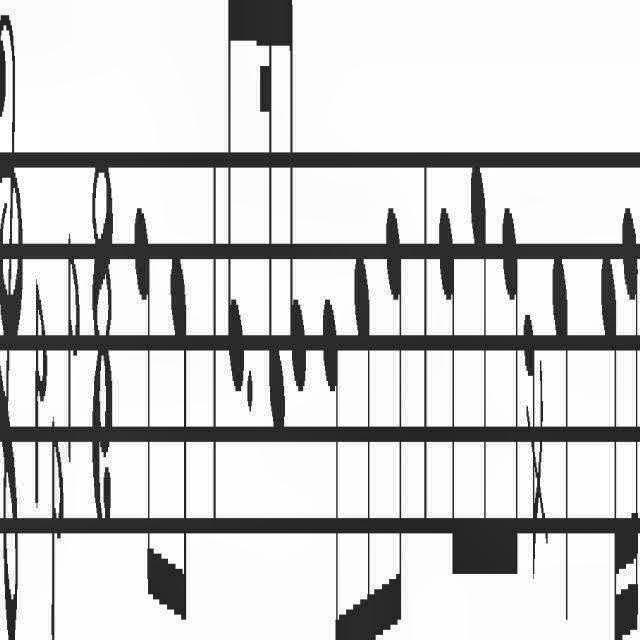Bass-clef: (0, 20, 24, 640)
Bemol: (26, 261, 46, 563), (62, 194, 78, 493), (44, 406, 62, 640)
Eighth-note: (160, 218, 192, 640), (348, 198, 376, 640), (384, 147, 407, 640), (128, 198, 152, 640), (435, 200, 461, 608), (466, 175, 490, 601), (315, 304, 345, 640), (222, 4, 245, 404), (498, 160, 518, 594), (286, 0, 306, 432), (554, 248, 570, 626)
Sixteenth-note: (258, 0, 282, 436), (620, 198, 640, 640), (600, 223, 619, 640)
